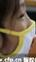with_mask: (1, 1, 36, 62)
